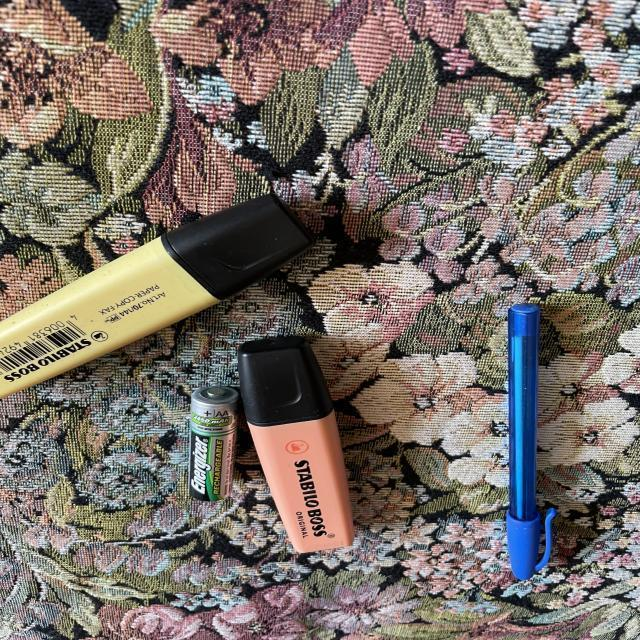Hazard: (190, 394, 233, 502)
